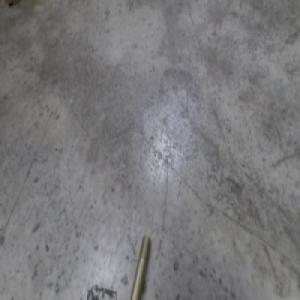Bolt: (129, 233, 150, 299)
